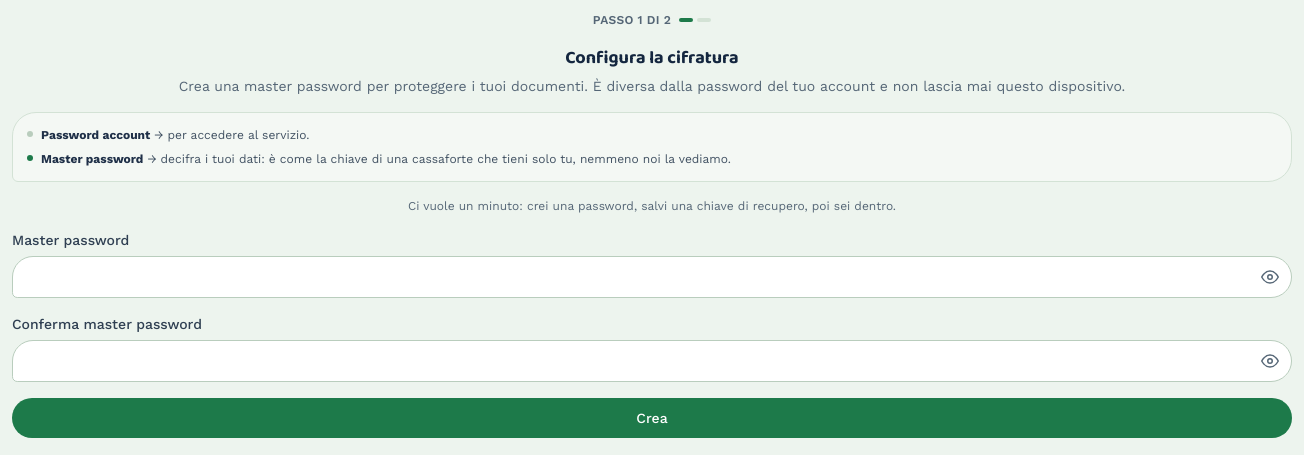
SetupMasterKeyForm › il kit stampabile sta fuori dalla finestra, direttamente nel body
This screenshot has width=1304, height=455.
Type "una-master-password" into the password field labelled "Master password" at (652, 277), box left=12, top=256, right=1292, bottom=298
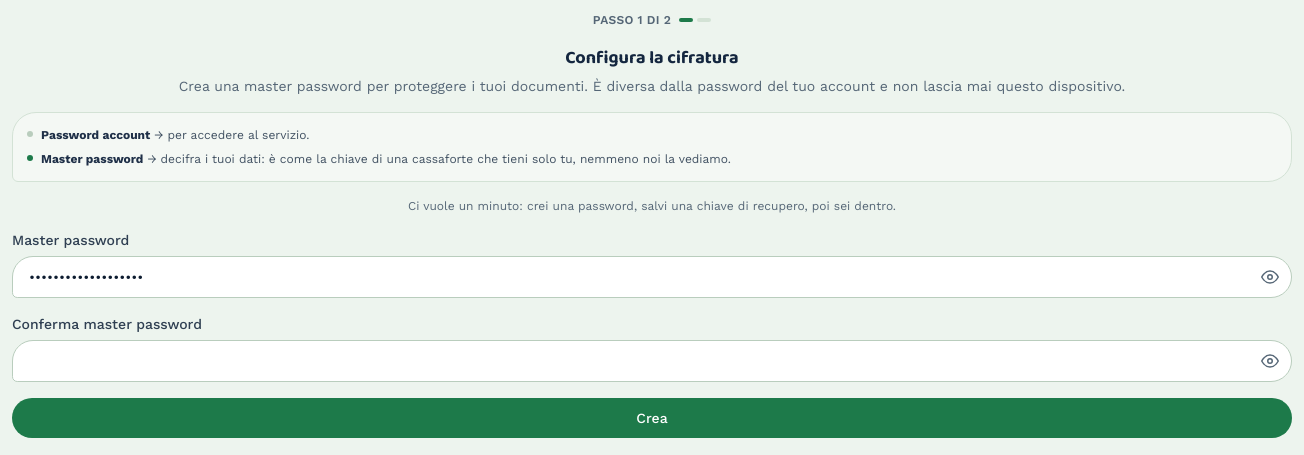
Type "una-master-password" into the password field labelled "Conferma master password" at (652, 361), box left=12, top=340, right=1292, bottom=382
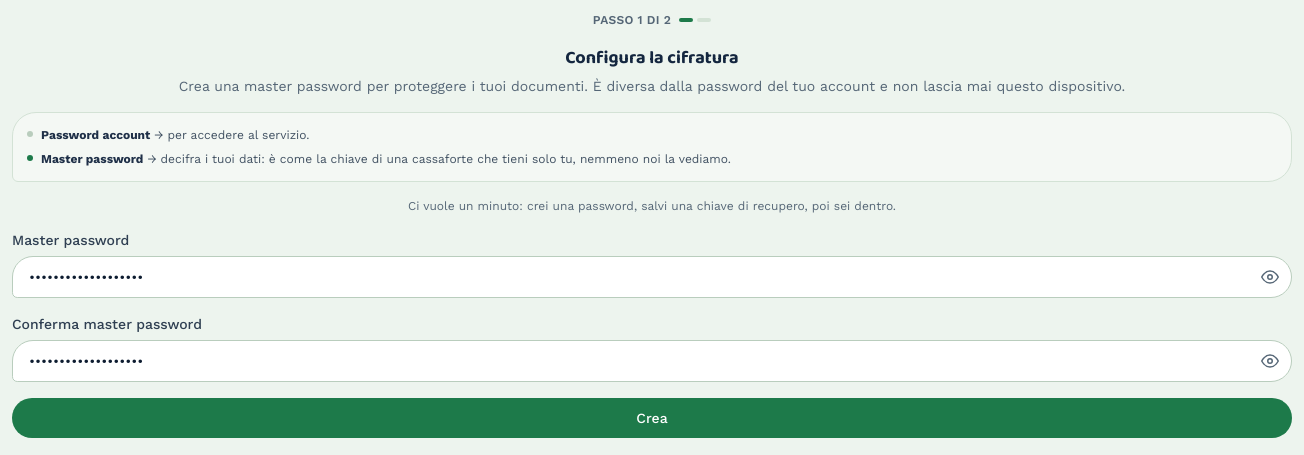
Click the button "Crea" at (652, 418), box left=12, top=398, right=1292, bottom=438
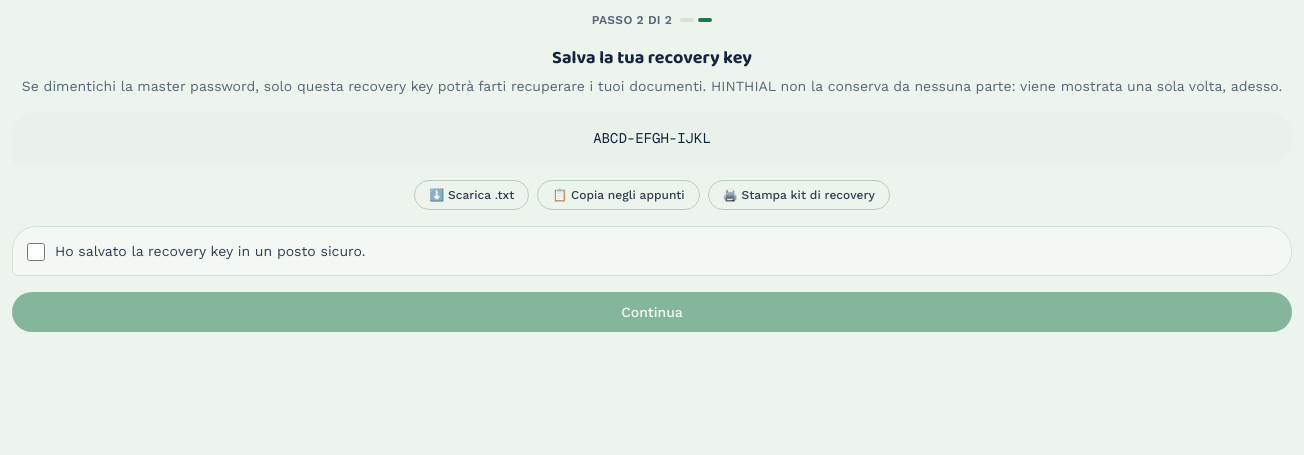
Expected: the heading "Salva la tua recovery key" is shown, left=552, top=44, right=752, bottom=72
